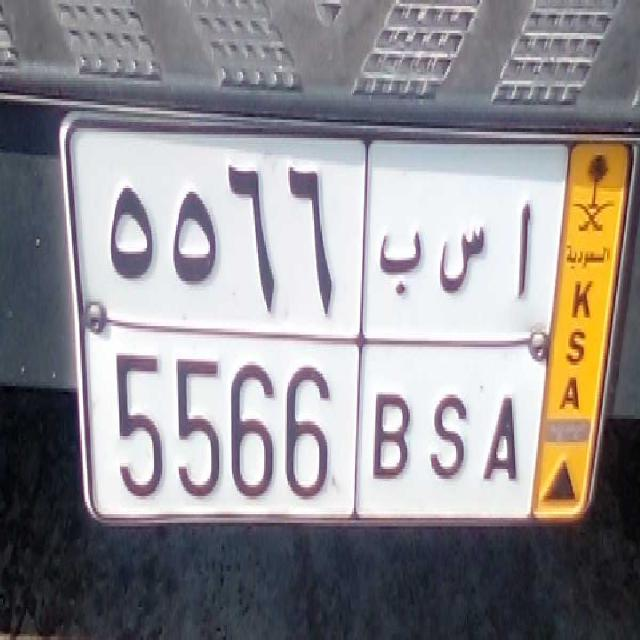license_plate: (100, 326, 532, 533)
